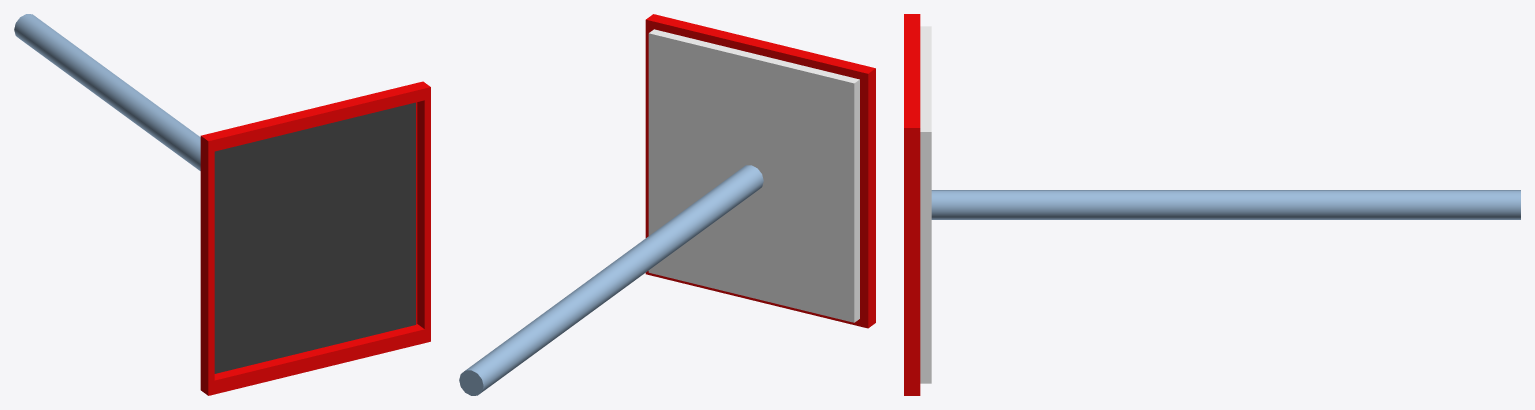
File: place.obj
3 renders of one model, left to right at view 1: azimuth 30°, elevation 25°; view 2: azimuth 150°, elevation 25°; view 3: azimuth 270°, elevation 25°, orthographic. The views are drawn at different scales.
Visible parts, largest first — view 1: g0; view 2: g0; view 3: g0.
Boxes of the visible parts, x1,y1,x2,y2 form: g0: (14,14,430,395); g0: (459,14,875,395); g0: (904,14,1520,395).
Size of the model in its own units: 0.1813 by 0.1984 by 0.4141.
